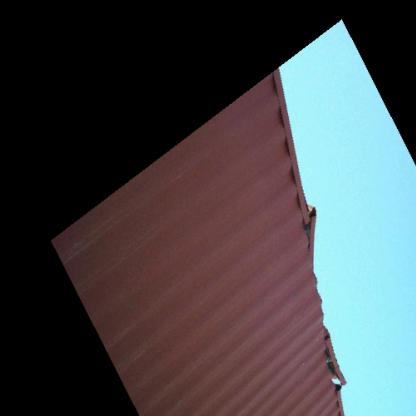Damage: (314, 315, 358, 396), (292, 192, 325, 282)
